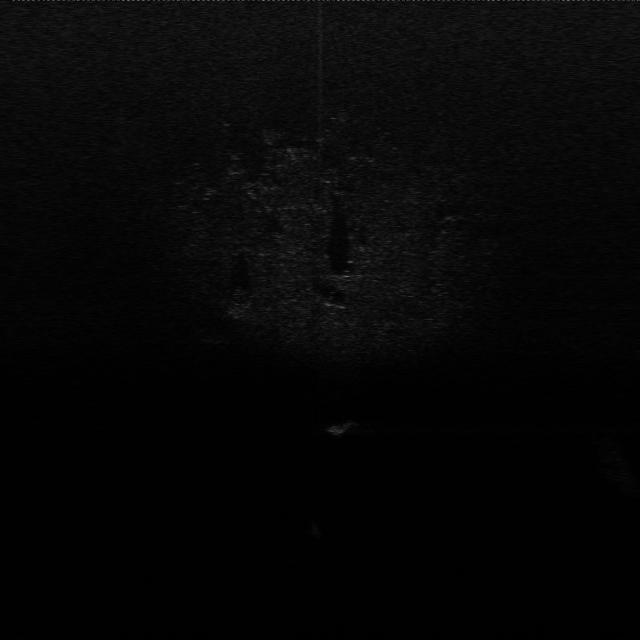square cage: (322, 411, 358, 438)
